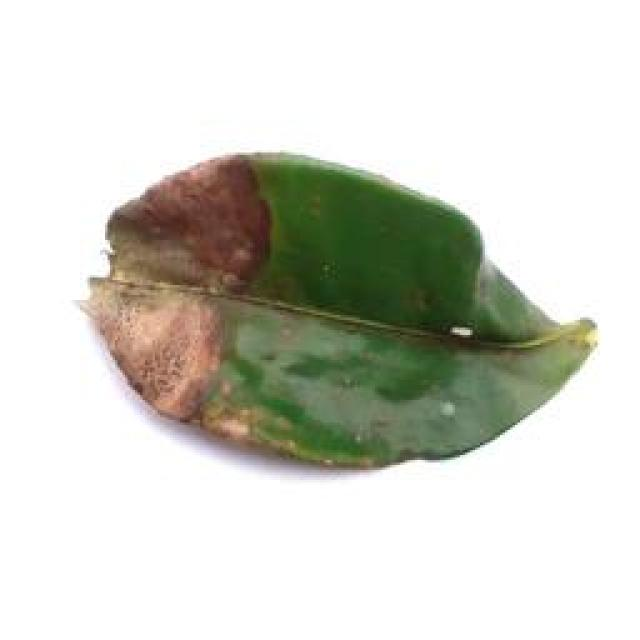Gray Blight: (96, 144, 586, 465)
